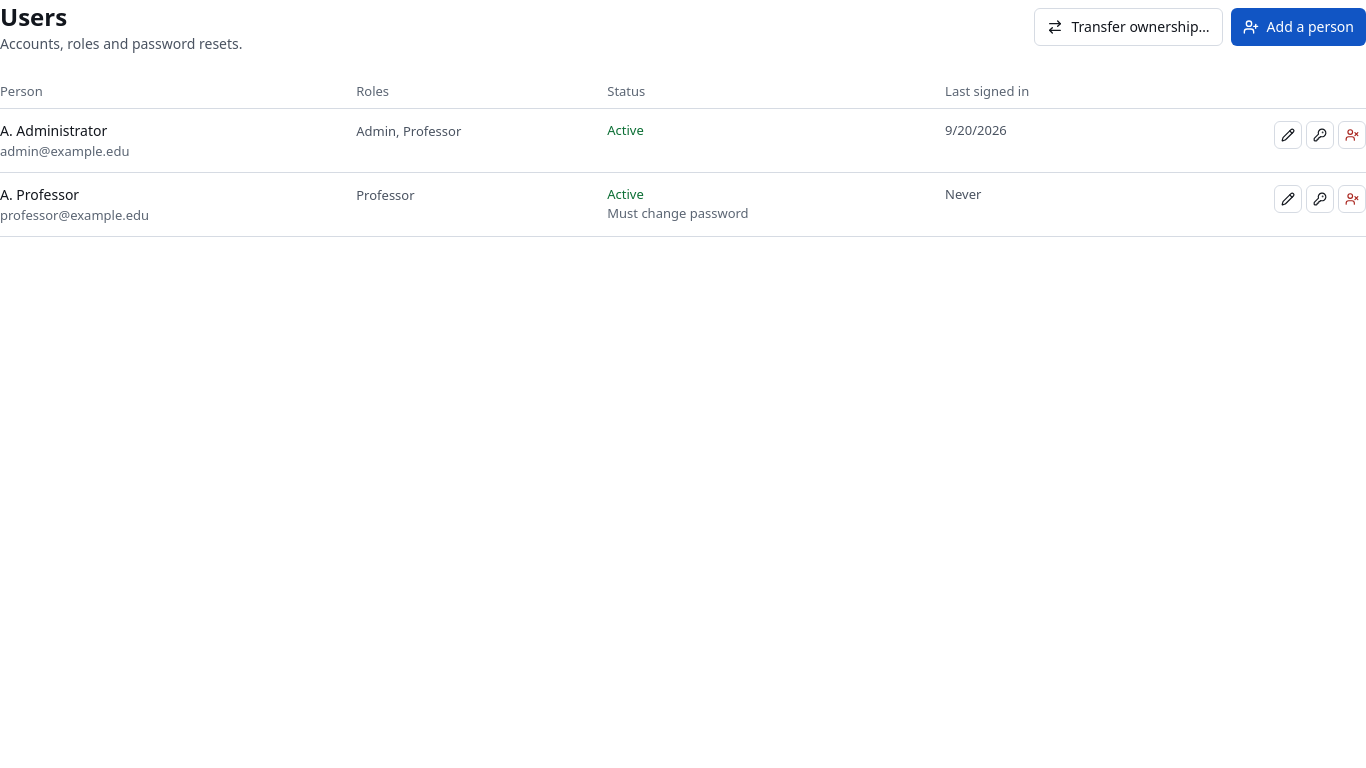
Transfer ownership… › a stale preview says so and is reloaded
This screenshot has width=1366, height=768.
Click the button "Transfer ownership…" at (1129, 27), box left=1034, top=8, right=1223, bottom=46
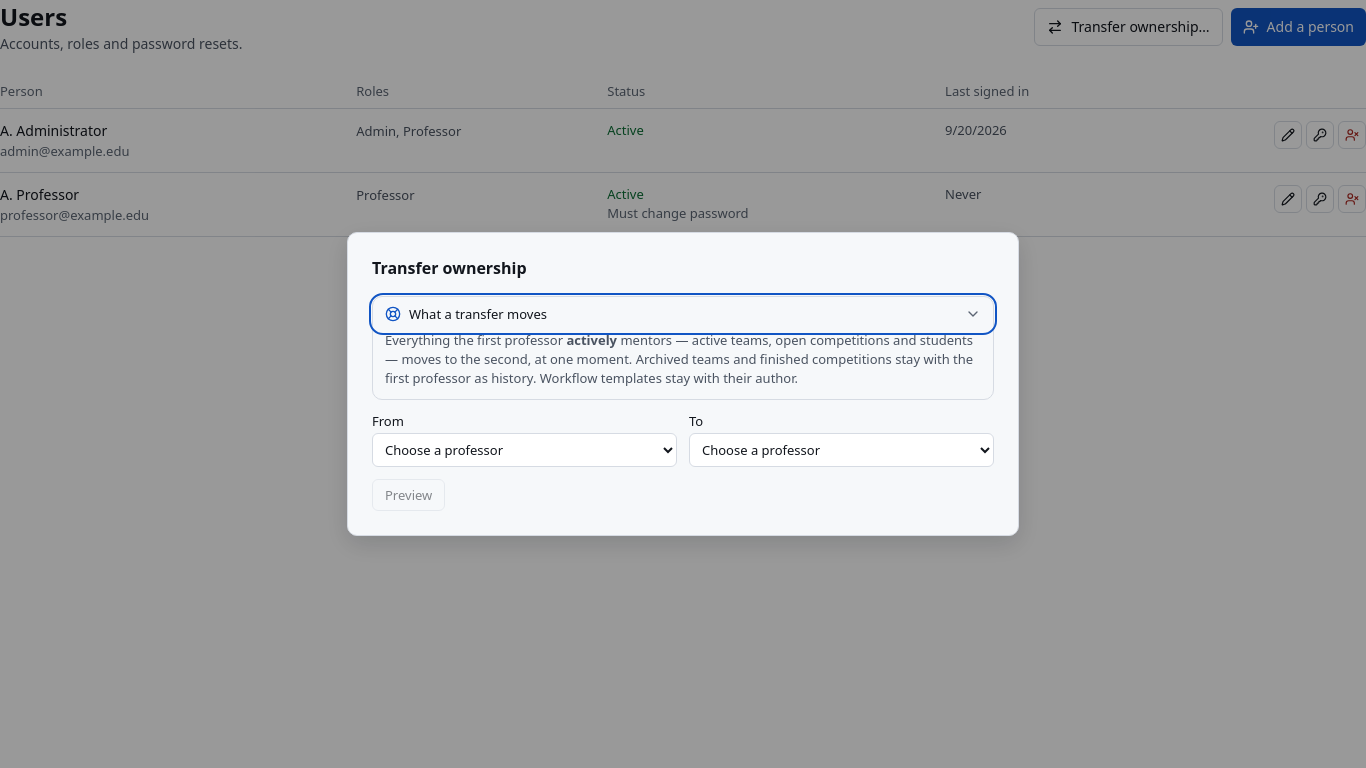
Select "A. Professor" in the dropdown labelled "From" at (524, 450), box left=372, top=433, right=677, bottom=467
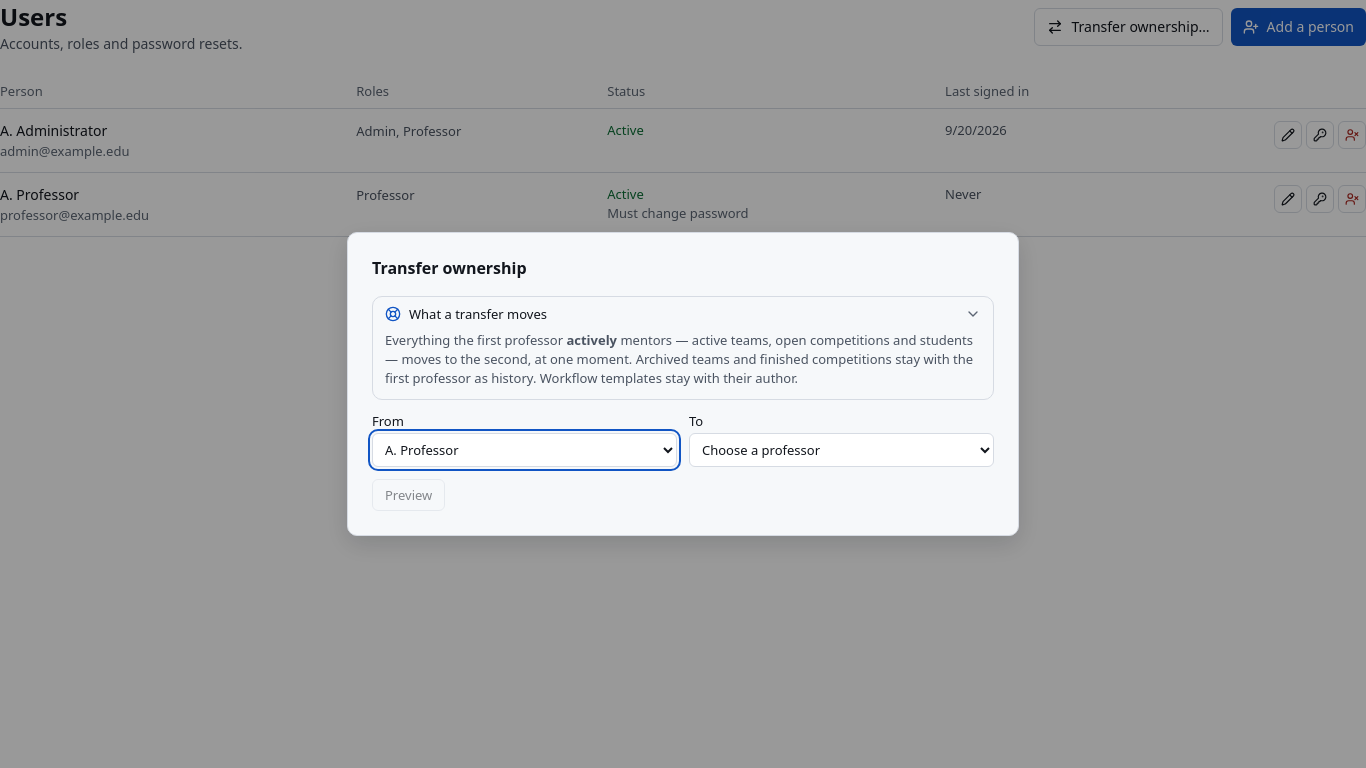
Select "A. Administrator" in the dropdown labelled "To" at (842, 450), box left=689, top=433, right=994, bottom=467
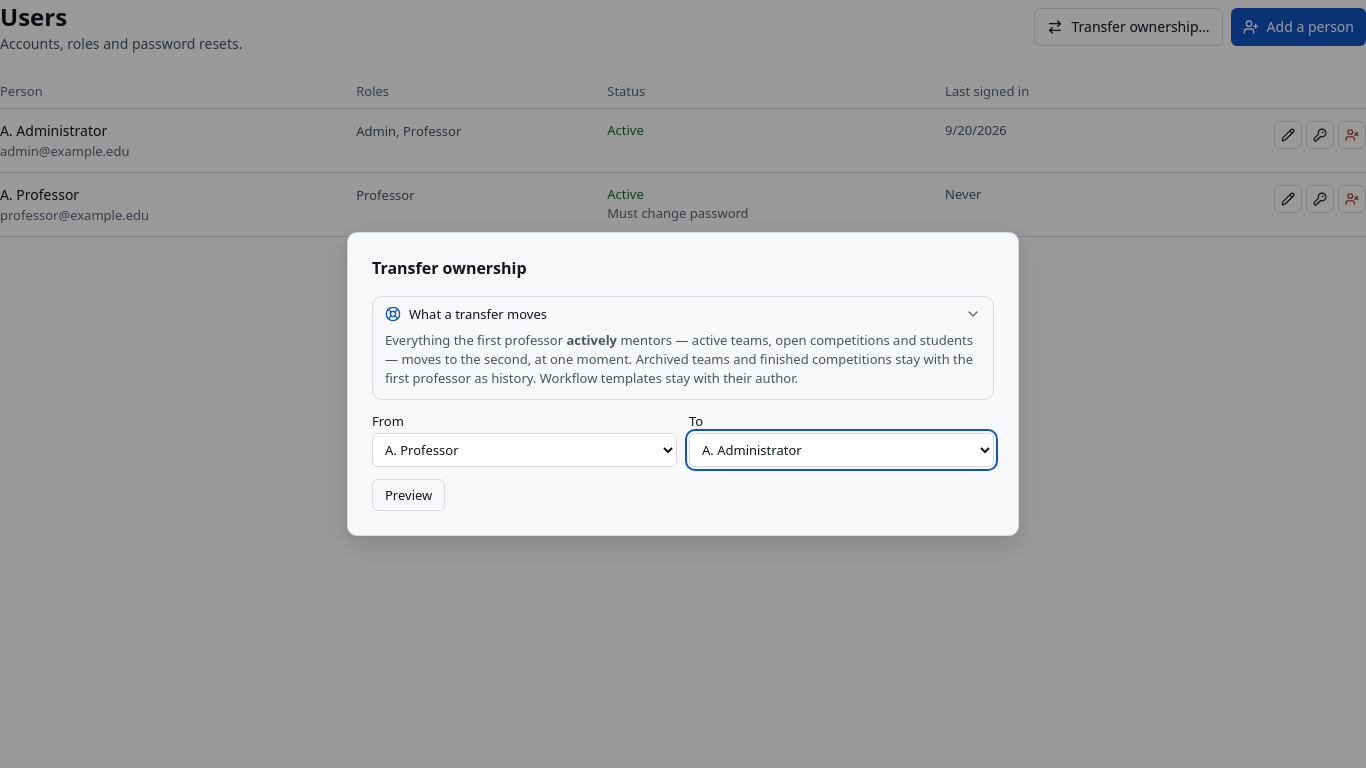
Click the button "Preview" at (409, 495), box left=372, top=479, right=445, bottom=511
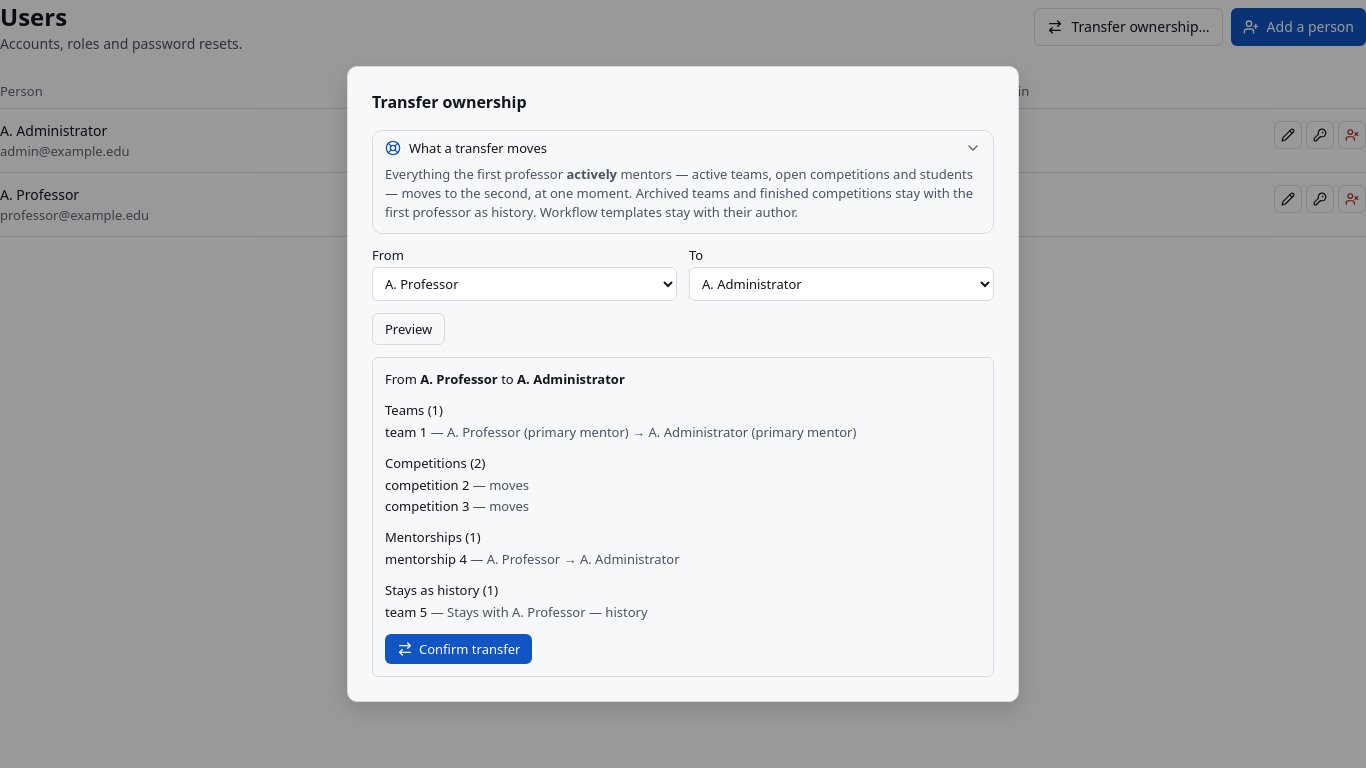
Click the button "Confirm transfer" at (459, 649), box left=385, top=634, right=532, bottom=664
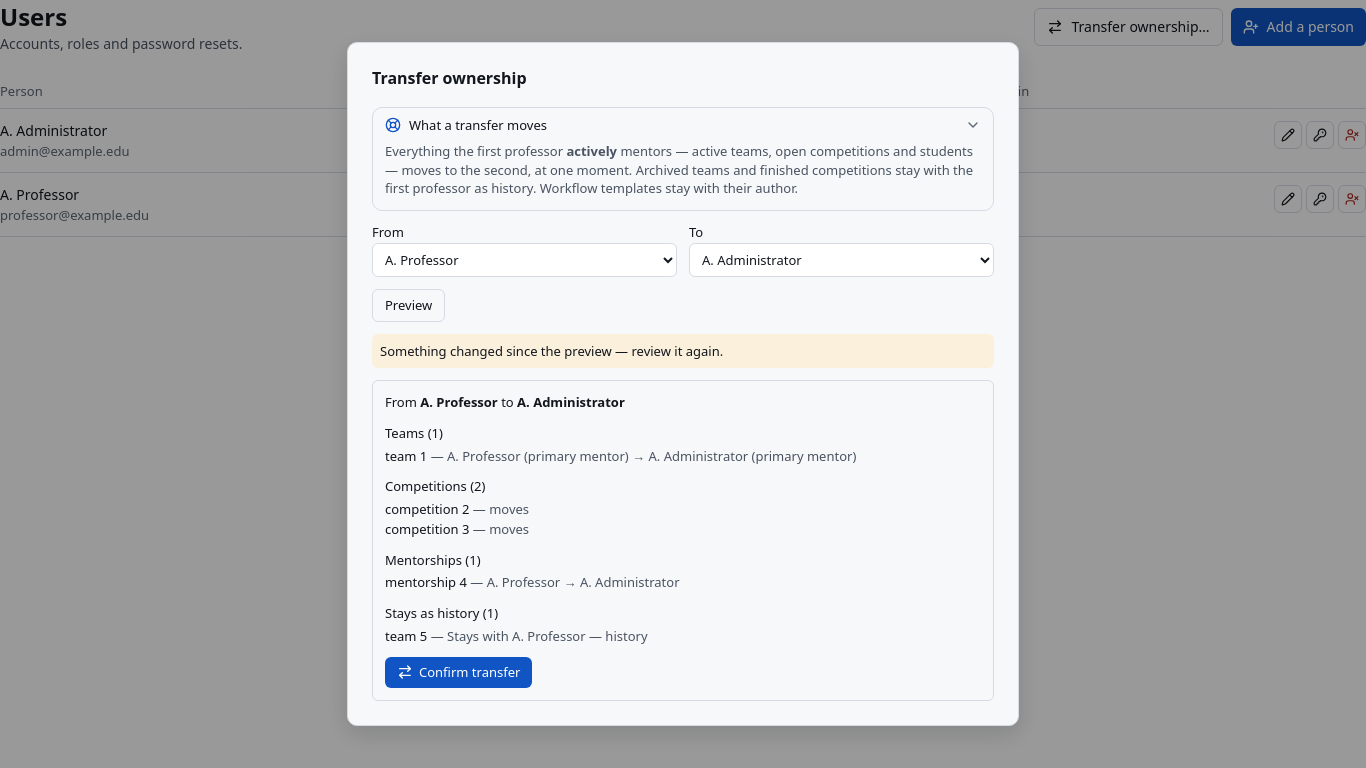
Expected: the text "Something changed since the preview — review it again." is shown, left=372, top=334, right=994, bottom=368
